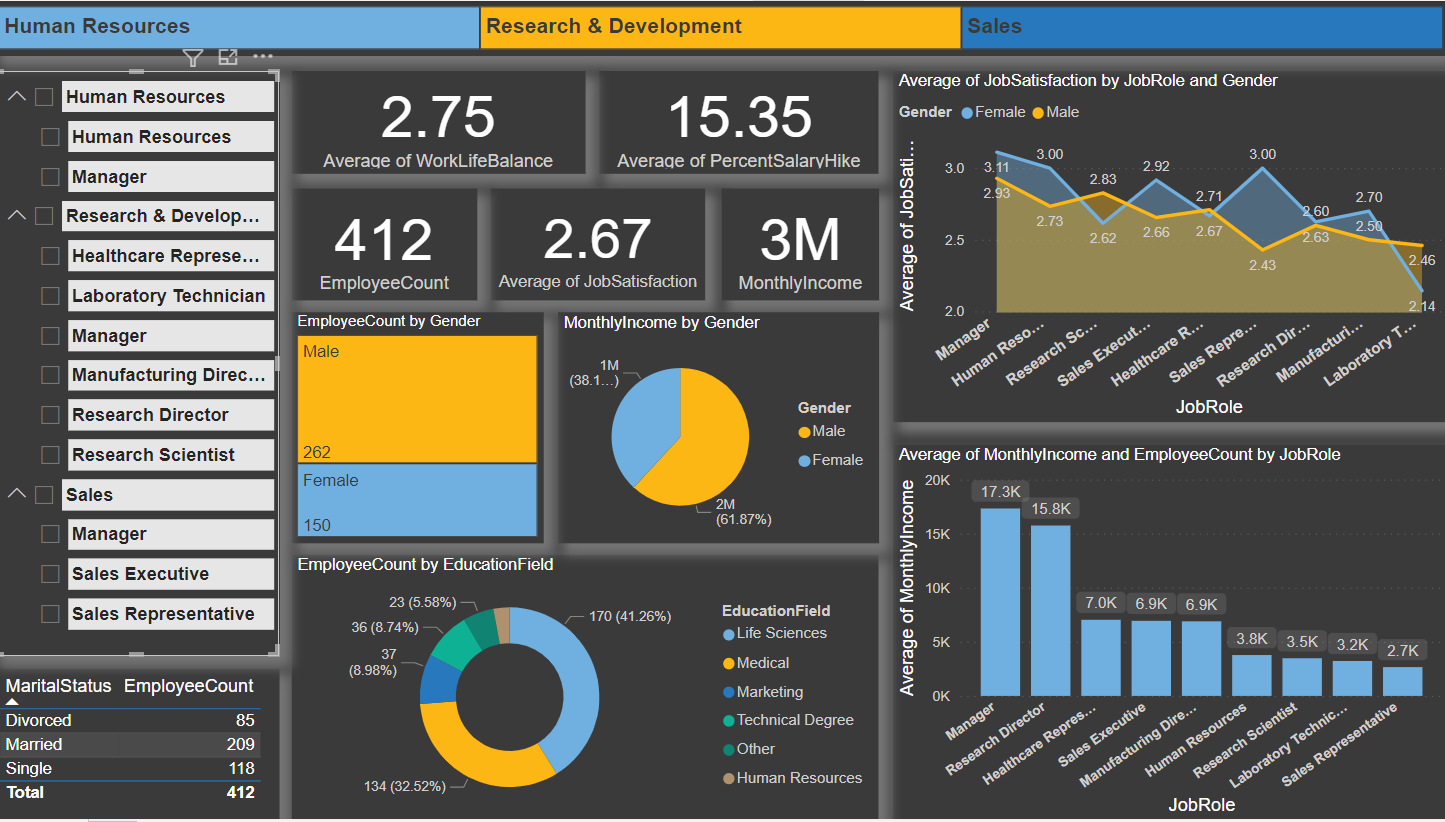

The page's visual inventory and layout, read from the dashboard file:
{"tool":"powerbi","page":{"name":"Page 1","canvas":[1280,720],"ordinal":0},"visuals":[{"type":"slicer","fields":{"Values":["test.Department","test.JobRole"]},"box":[0,61.5,252,514.8],"z":0},{"type":"areaChart","fields":{"Category":["test.JobRole"],"Y":["Avg(test.JobSatisfaction)"],"Series":["test.Gender"]},"box":[791.4,61.5,488.6,308.9],"z":1000},{"type":"columnChart","fields":{"Category":["test.JobRole"],"Y":["Avg(test.MonthlyIncome)"]},"box":[791.4,390.3,488.6,330.4],"z":2000},{"type":"treemap","fields":{"Values":["test.Measure 2"],"Group":["test.Department"]},"box":[0,0,1280,47.6],"z":3000},{"type":"card","fields":{"Values":["Avg(test.PercentSalaryHike)"]},"box":[533.2,61.5,245.9,90.7],"z":4000},{"type":"card","fields":{"Values":["Avg(test.WorkLifeBalance)"]},"box":[262.8,61.5,258.2,90.7],"z":5000},{"type":"card","fields":{"Values":["Avg(test.JobSatisfaction)"]},"box":[437.9,164.4,189,98.3],"z":6000},{"type":"tableEx","fields":{"Values":["test.MaritalStatus","Sum(test.EmployeeCount)"]},"box":[0,587,252,133.7],"z":7000},{"type":"card","fields":{"Values":["Sum(test.MonthlyIncome)"]},"box":[640.8,164.4,138.3,98.3],"z":8000},{"type":"donutChart","fields":{"Category":["test.EducationField"],"Y":["Sum(test.EmployeeCount)"]},"box":[262.8,487.1,516.3,233.6],"z":9000},{"type":"pieChart","fields":{"Category":["test.Gender"],"Y":["Sum(test.MonthlyIncome)"]},"box":[496.3,273.5,282.7,202.8],"z":10000},{"type":"card","fields":{"Values":["Sum(test.EmployeeCount)"]},"box":[262.8,164.4,162.9,98.3],"z":11000},{"type":"treemap","fields":{"Group":["test.Gender"],"Values":["Sum(test.EmployeeCount)"]},"box":[262.8,273.5,221.3,202.8],"z":12000}]}

Visuals, with their boxes on the page's 1280x720 design canvas (x1, y1, x2, y2). These are canvas units, not pixel positions in the 1445x822 screenshot, which may show the page scaled, cropped or inside an application window:
slicer - test.Department x test.JobRole: bbox=(0, 62, 252, 576)
areaChart - test.JobRole x Avg(test.JobSatisfaction): bbox=(791, 62, 1280, 370)
columnChart - test.JobRole x Avg(test.MonthlyIncome): bbox=(791, 390, 1280, 721)
treemap - test.Measure 2 x test.Department: bbox=(0, 0, 1280, 48)
card - Avg(test.PercentSalaryHike): bbox=(533, 62, 779, 152)
card - Avg(test.WorkLifeBalance): bbox=(263, 62, 521, 152)
card - Avg(test.JobSatisfaction): bbox=(438, 164, 627, 263)
tableEx - test.MaritalStatus x Sum(test.EmployeeCount): bbox=(0, 587, 252, 721)
card - Sum(test.MonthlyIncome): bbox=(641, 164, 779, 263)
donutChart - test.EducationField x Sum(test.EmployeeCount): bbox=(263, 487, 779, 721)
pieChart - test.Gender x Sum(test.MonthlyIncome): bbox=(496, 274, 779, 476)
card - Sum(test.EmployeeCount): bbox=(263, 164, 426, 263)
treemap - test.Gender x Sum(test.EmployeeCount): bbox=(263, 274, 484, 476)
